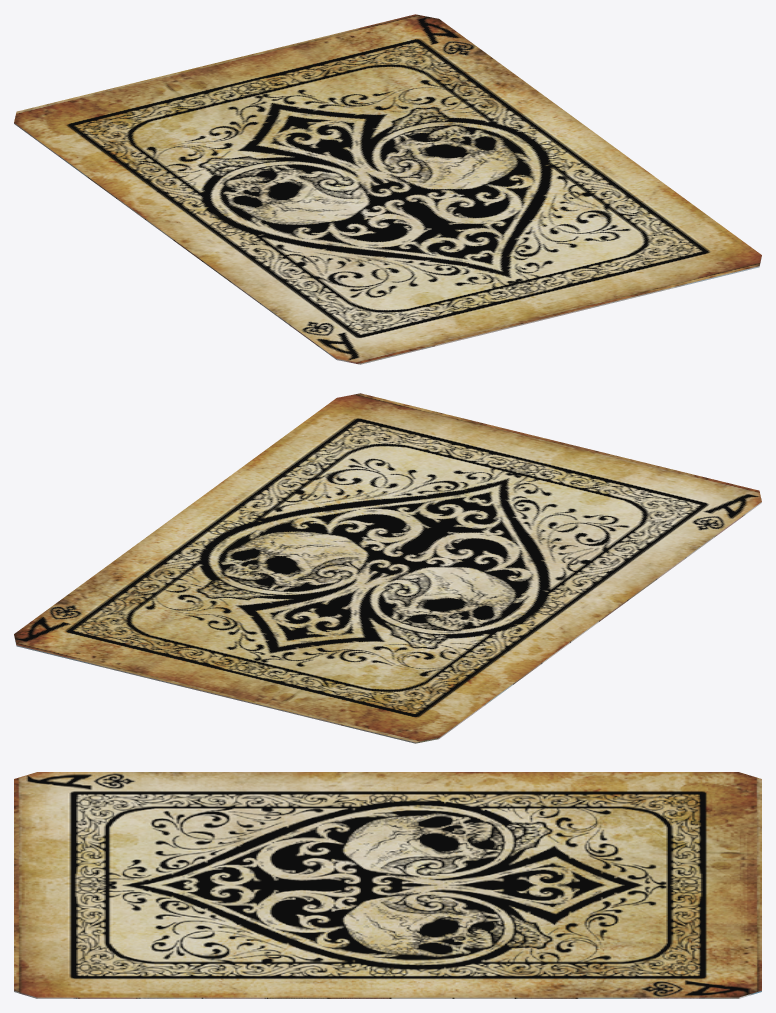
Rendered from ace_of_spades_poker_card.glb.
3 views of the same model, one above another, from view 1: azimuth 30°, elevation 25°; view 2: azimuth 150°, elevation 25°; view 3: azimuth 270°, elevation 25° (orthographic). The views are drawn at different scales.
Visible parts, largest first — view 1: Plane_0; view 2: Plane_0; view 3: Plane_0.
Boxes of the visible parts, bbox=[...] form: Plane_0: bbox=[14, 14, 761, 364]; Plane_0: bbox=[14, 393, 761, 743]; Plane_0: bbox=[14, 772, 761, 998].
Bounding box in the file's own units: 3.69 × 0.01 × 5.17.
Materials: 3 (3 with a texture image).
